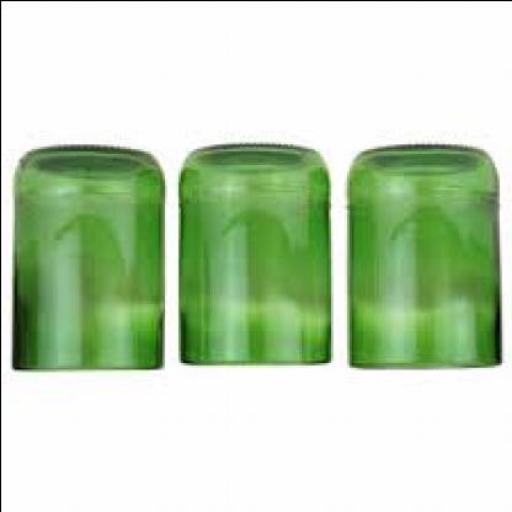glass: (348, 146, 501, 371), (178, 145, 332, 367), (16, 148, 166, 373)
